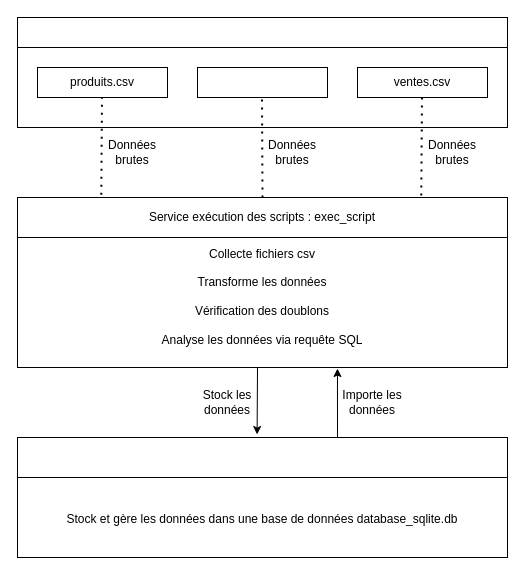
Image size: 525x575. Some labels were removed from this diagram. Here are the shapes that lost their labels. From the top down, the centre of each, then its label:
At point (262, 32): "Données CSV".
At point (262, 82): "magasins.csv".
At point (262, 457): "Service de stockage des données : database_sqlite".
